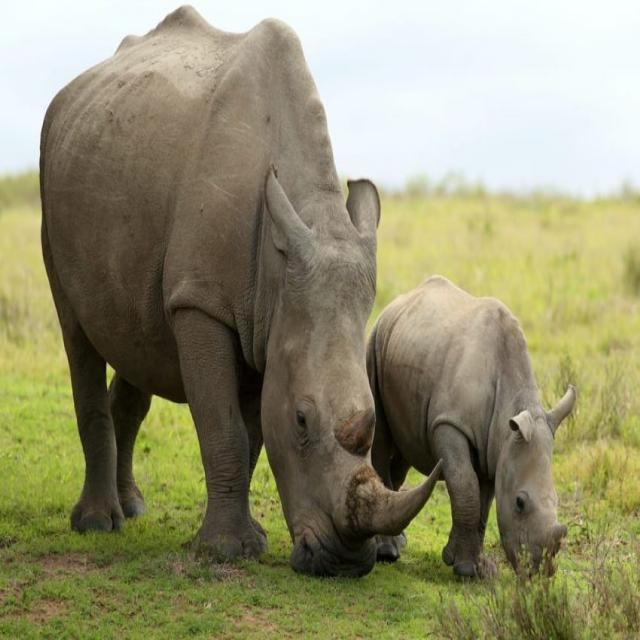Herbivorous: (40, 7, 433, 580), (364, 275, 578, 581)
